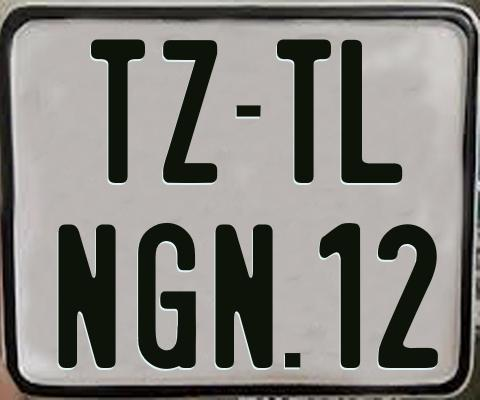1: (319, 220, 365, 365)
2: (378, 224, 442, 370)
G: (136, 220, 200, 368)
L: (339, 40, 400, 186)
N: (212, 224, 275, 371), (56, 224, 115, 369)
T: (277, 39, 334, 189), (91, 37, 145, 183)
Z: (162, 39, 220, 188)
